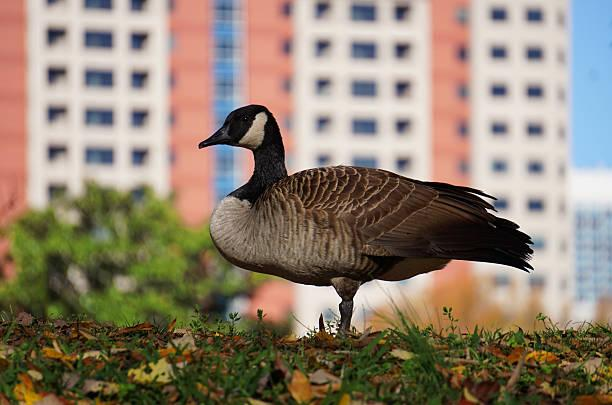Canadian-Goose: (193, 103, 532, 332)
